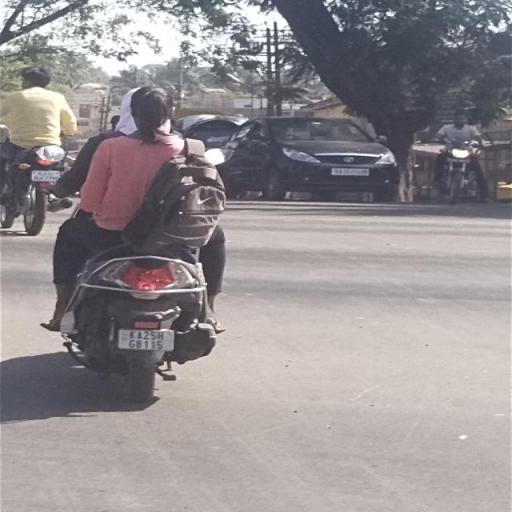bike: (28, 82, 235, 407)
numberplate: (114, 328, 176, 350)
withouthelmet: (132, 88, 170, 125), (120, 88, 133, 127)
